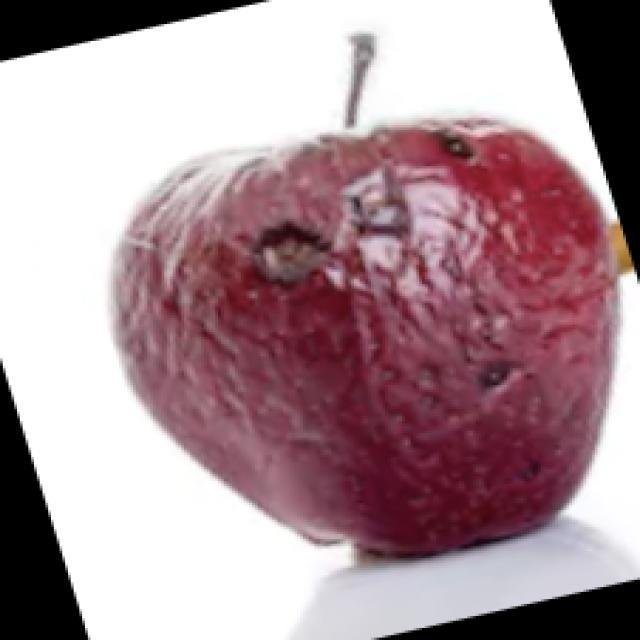Rotten: (95, 123, 613, 550)
